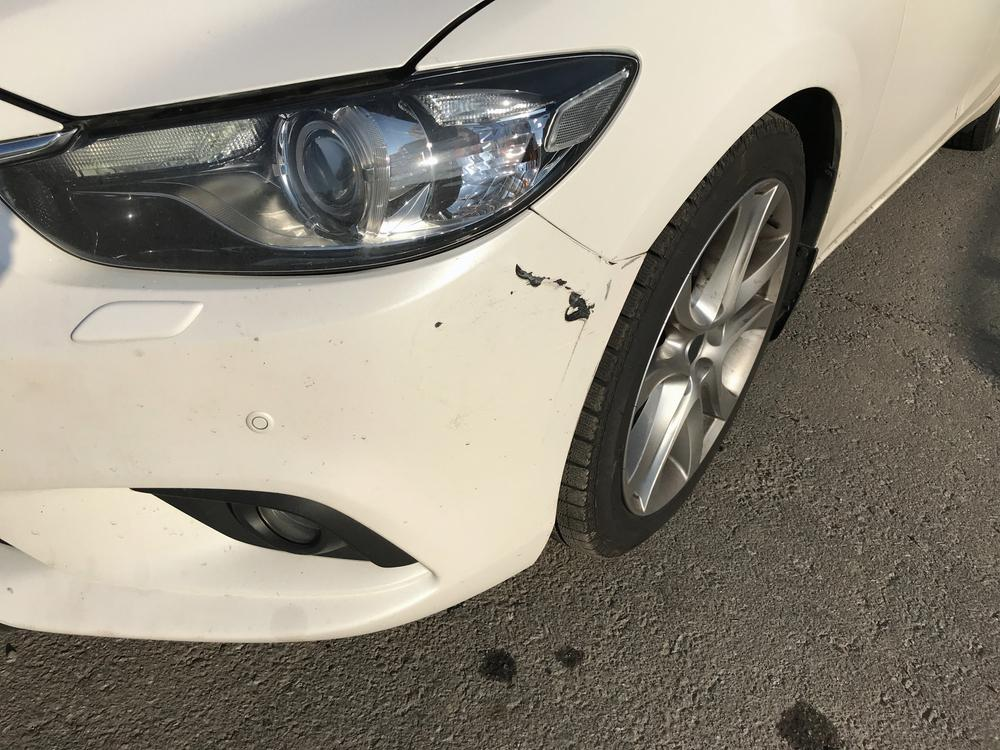scratch: (514, 263, 602, 347)
